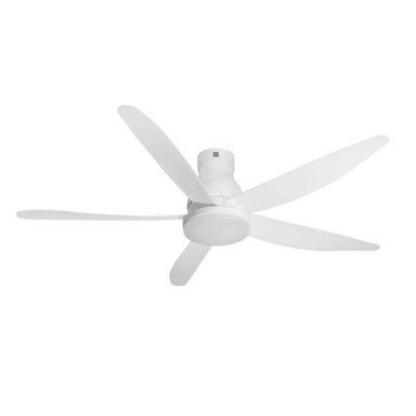ceiling-fan: (14, 102, 390, 288)
